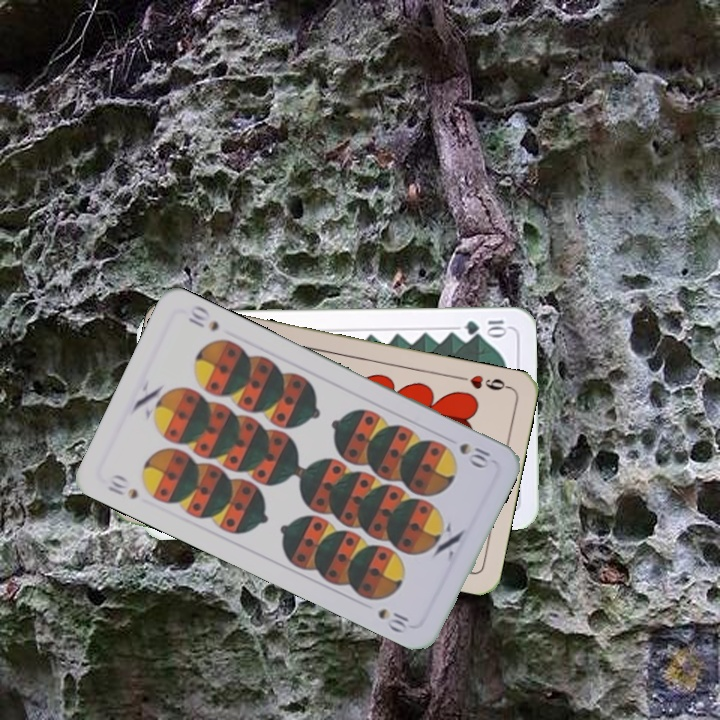G10: (461, 316, 509, 337)
H9: (454, 371, 513, 393)
S10: (455, 438, 493, 469), (104, 477, 141, 502)
